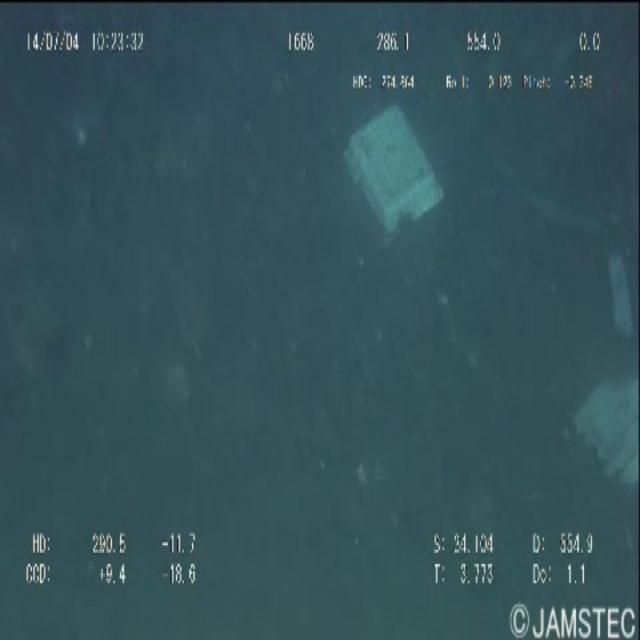Cutlery: (342, 96, 447, 246)
Litter: (606, 214, 640, 342)
Plastic: (568, 372, 640, 496)
